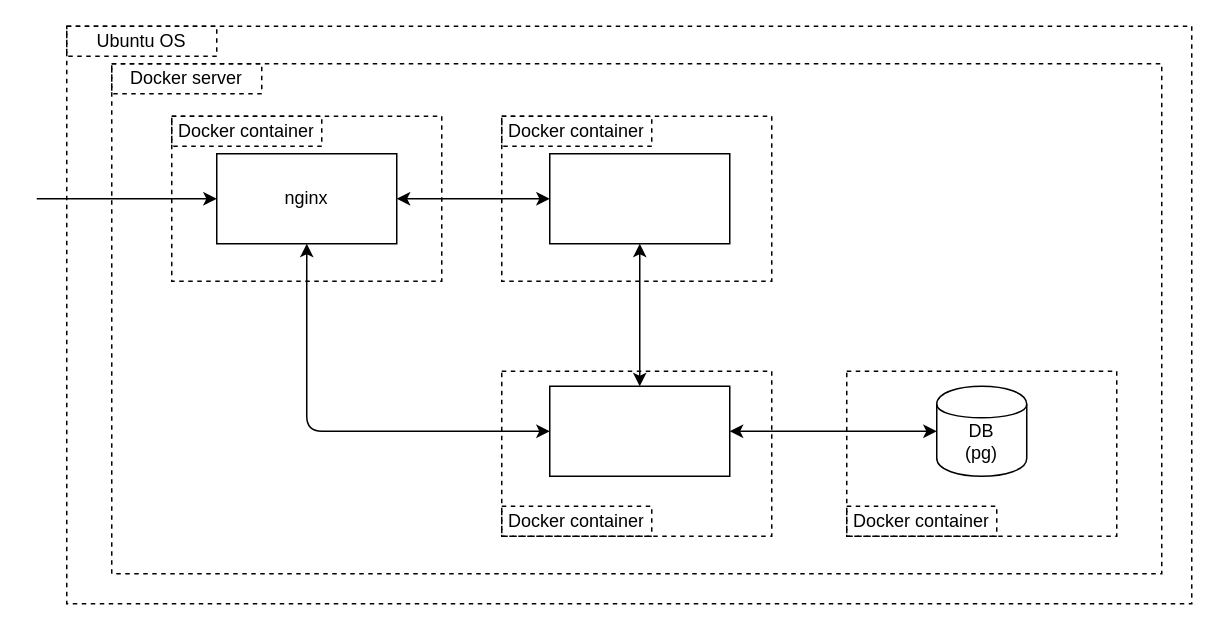
The diagram is 1218 pixels wide and 630 high, and some of its shapes have lost their labels. Each missing label, with the box of its shape:
API (elixir, cowboy, ws): (548, 385, 730, 476)
Web (nodejs + express): (548, 152, 730, 244)
